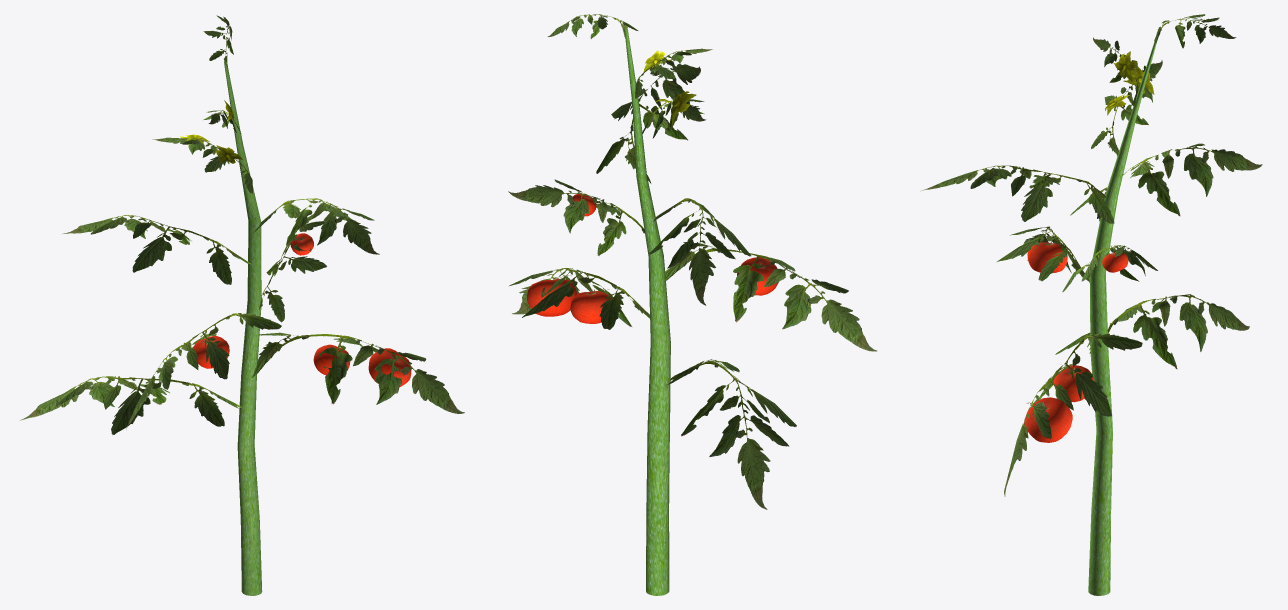
File: tomato_plant.obj
The picture shows the model from 3 angles, left to right: view 1: azimuth 30°, elevation 25°; view 2: azimuth 150°, elevation 25°; view 3: azimuth 270°, elevation 25°; orthographic projection. The views are drawn at different scales.
Parts seen in each view (by area): view 1: obj1; view 2: obj1; view 3: obj1.
Boxes of the visible parts, bbox=[...] form: obj1: bbox=[20, 15, 464, 595]; obj1: bbox=[508, 14, 877, 595]; obj1: bbox=[920, 14, 1262, 595].
Size of the model in its own units: 208 by 312 by 176.
1 material, 1 textured.
